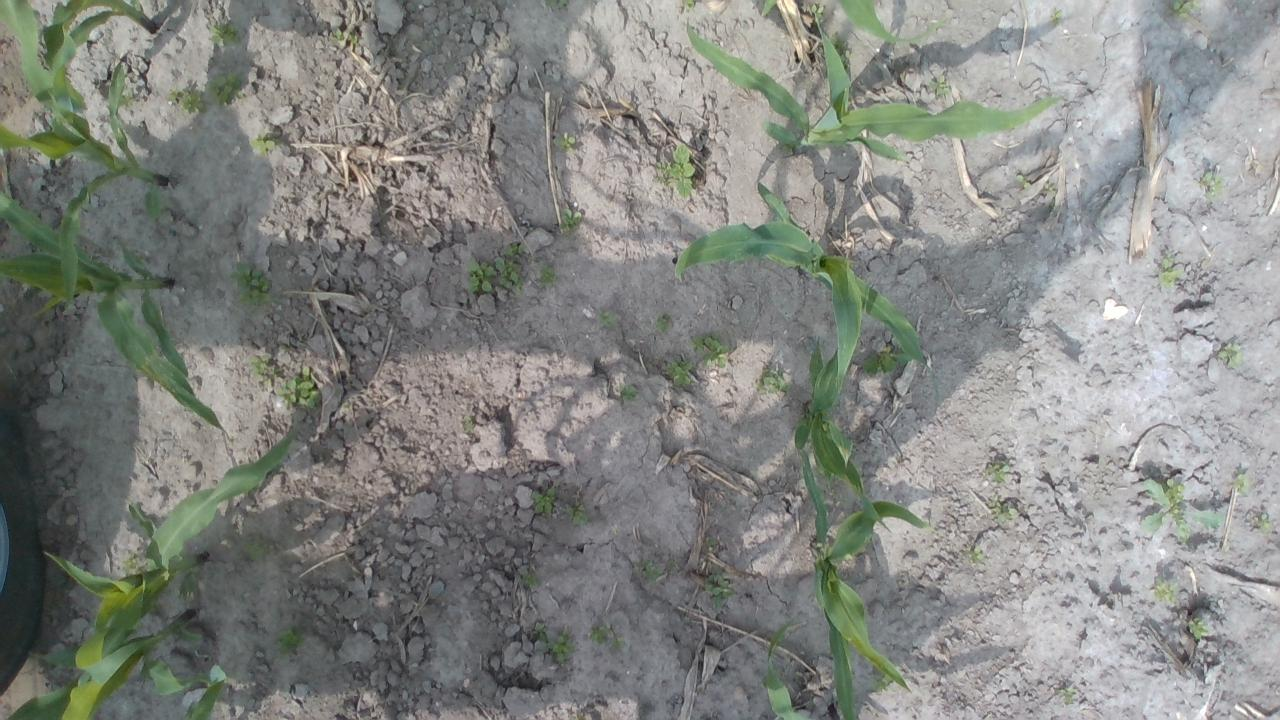Maize: (41, 425, 293, 699), (673, 182, 942, 404), (684, 16, 1065, 168), (0, 0, 167, 308), (796, 446, 936, 720), (3, 606, 203, 720), (790, 338, 894, 535), (40, 0, 158, 86), (759, 0, 948, 45), (142, 653, 228, 720), (766, 623, 812, 720), (761, 678, 768, 688)
Weeds: (0, 192, 230, 438), (1142, 478, 1226, 542), (463, 256, 524, 294), (274, 366, 321, 412), (227, 262, 273, 304), (689, 332, 732, 370), (666, 143, 695, 199), (207, 68, 244, 107), (864, 345, 909, 375), (756, 367, 792, 399), (248, 352, 280, 386), (704, 574, 734, 609), (546, 630, 576, 664), (169, 87, 207, 113), (1156, 254, 1185, 288), (208, 22, 245, 48), (275, 625, 306, 654), (248, 132, 279, 158), (1165, 0, 1200, 23), (666, 360, 694, 387), (1217, 342, 1244, 369), (532, 485, 556, 514), (1200, 172, 1224, 200), (639, 557, 663, 584), (831, 31, 849, 66), (991, 499, 1018, 522), (1153, 578, 1177, 602), (119, 552, 142, 576), (566, 503, 592, 524), (985, 463, 1010, 484), (928, 74, 950, 96), (1188, 616, 1208, 640), (536, 263, 556, 287), (560, 207, 580, 231), (871, 671, 893, 691), (655, 312, 673, 336), (652, 162, 670, 186), (244, 542, 268, 560), (596, 309, 616, 330), (618, 382, 640, 401), (554, 132, 577, 150), (1256, 511, 1273, 535), (1057, 686, 1077, 706), (503, 241, 528, 257), (806, 2, 824, 24), (334, 28, 358, 44), (590, 624, 608, 644), (116, 92, 138, 108), (1232, 473, 1248, 494), (532, 621, 548, 641), (523, 575, 540, 591), (610, 635, 626, 651), (968, 546, 984, 561), (1016, 174, 1030, 190), (1048, 8, 1062, 24), (545, 0, 569, 9), (777, 140, 793, 152), (1042, 182, 1054, 194), (685, 0, 696, 9)
